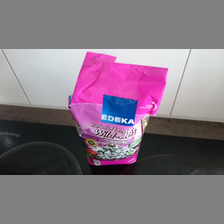rice: (68, 51, 169, 166)
